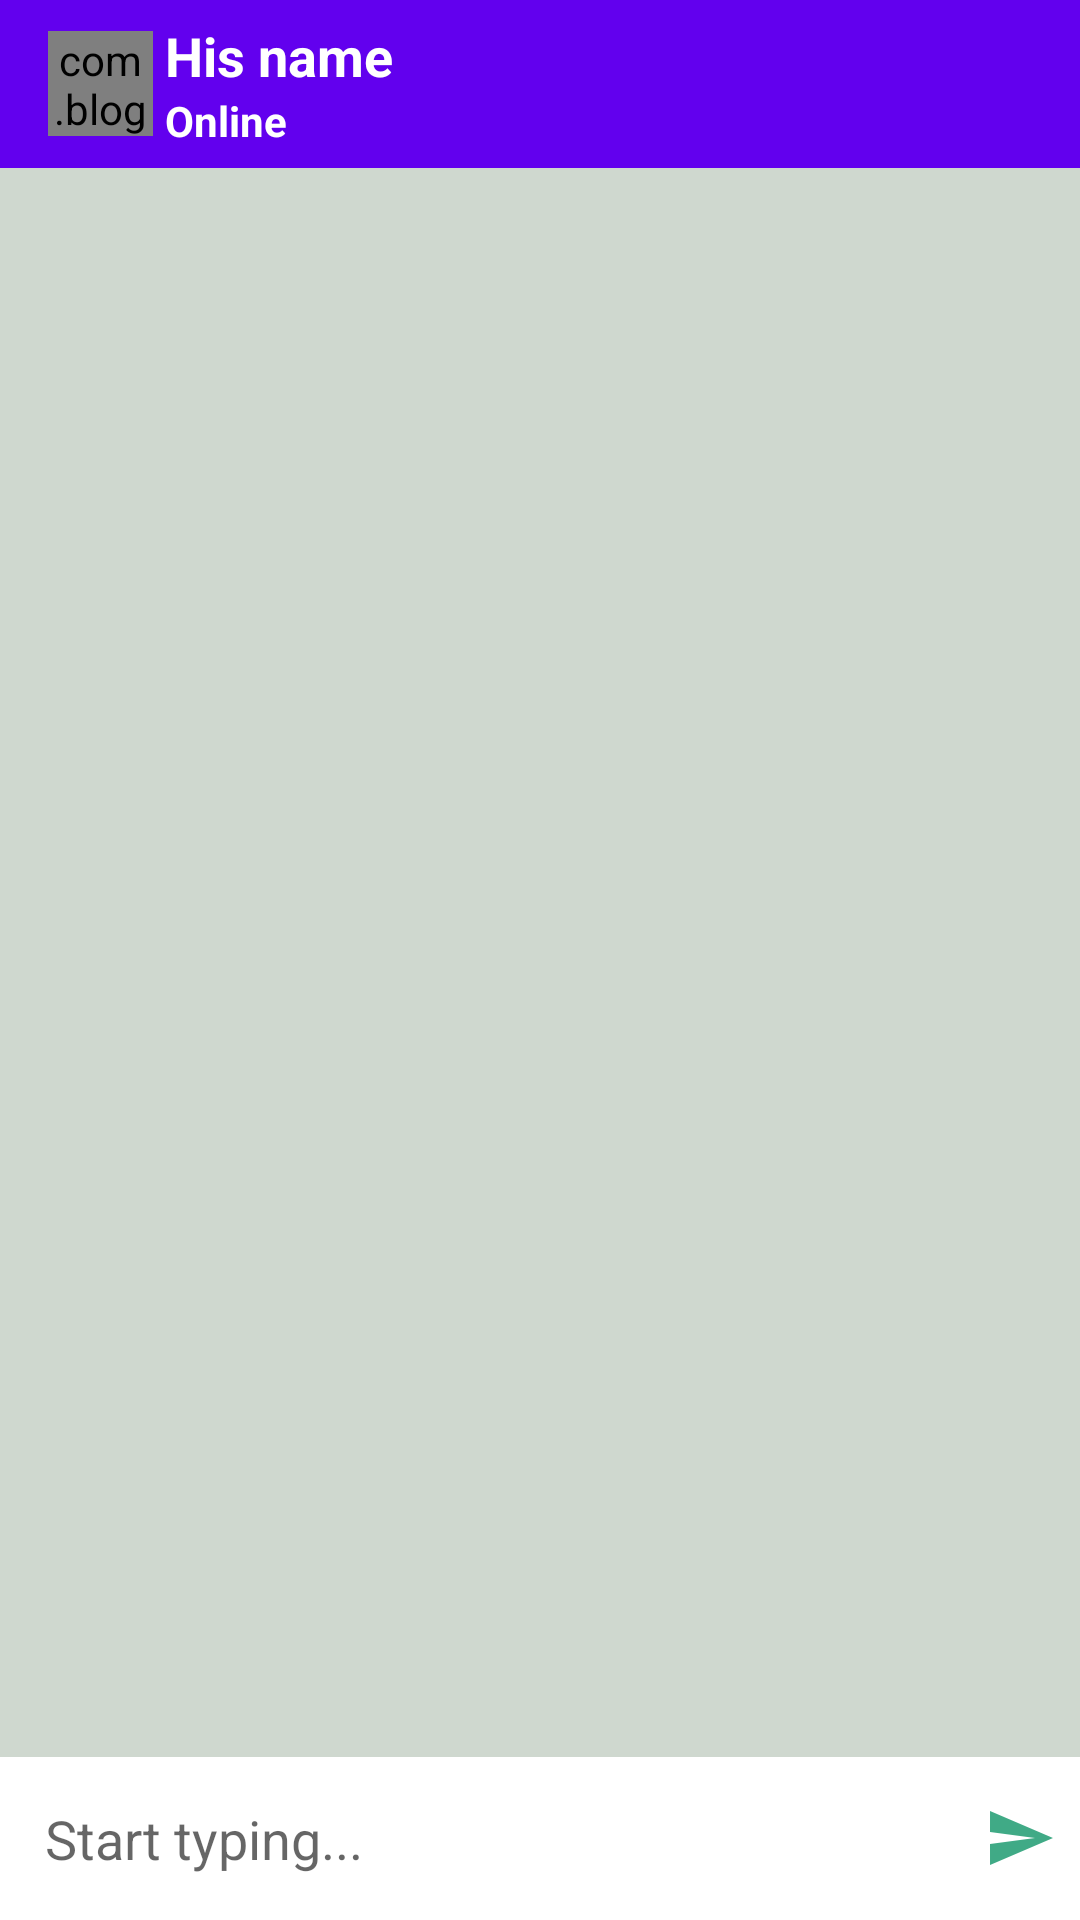

Icons on this 1080x1920 Android screen, each with its box as (x1, y1, x2, y2):
send: (990, 1811, 1053, 1865)
